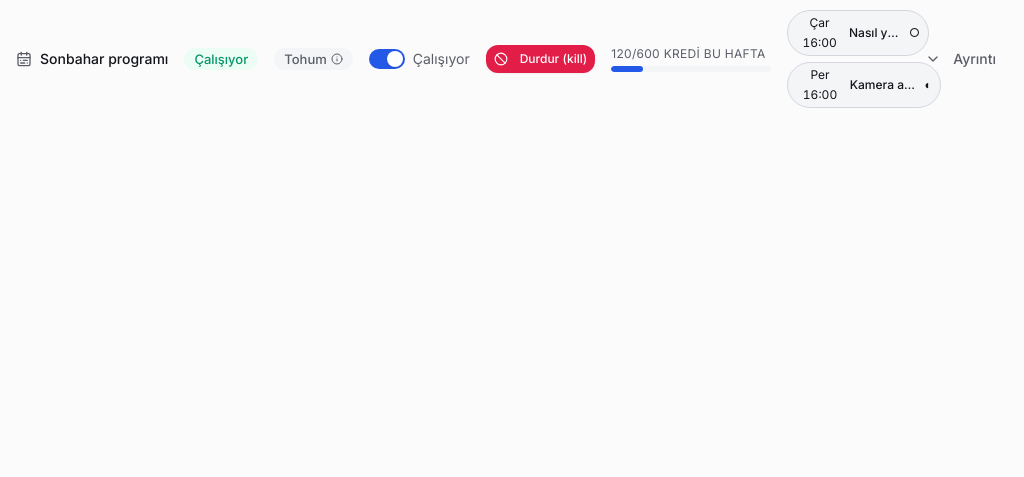
it: ProgrammePanel — detail › the Trendler and Günlük tabs render their rows
The width and height of the screenshot is (1024, 477).
Click the button "Ayrıntı" at (961, 59), box x1=913 y1=43 x2=1008 y2=75
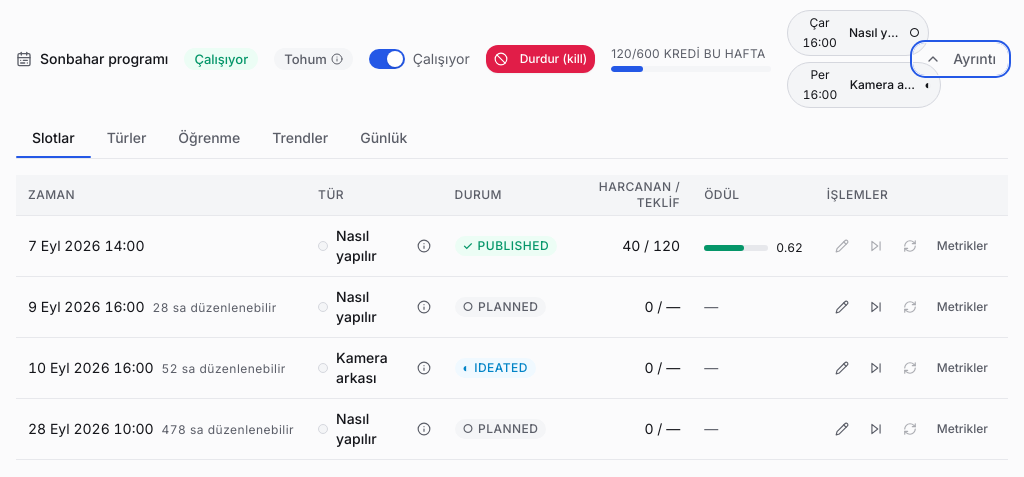
Click the tab "Trendler" at (300, 139), box x1=256 y1=120 x2=344 y2=158
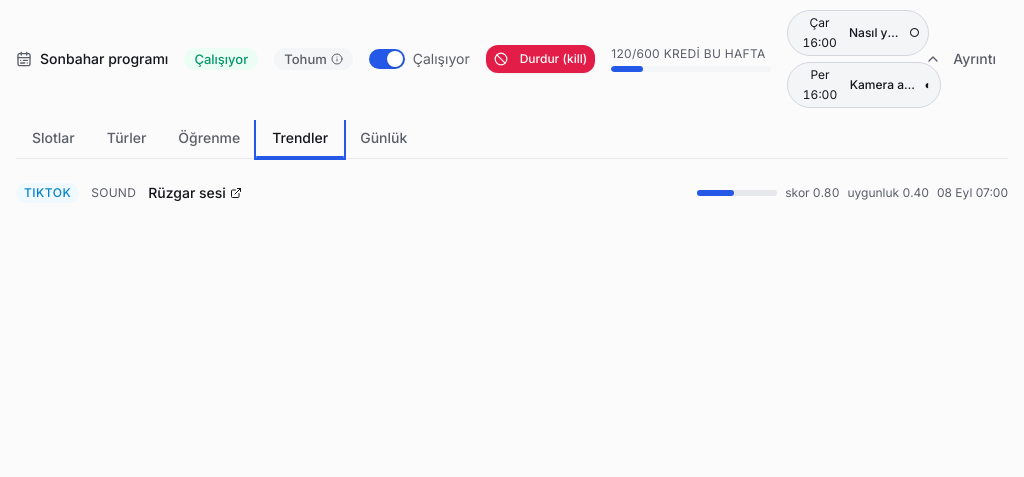
Result: the list item with test id "programme-trend-row" shows "TIKTOK" at x1=24 y1=185 x2=71 y2=200
Result: the list item with test id "programme-trend-row" shows "skor 0.80" at x1=16 y1=183 x2=1008 y2=203
Result: the list item with test id "programme-trend-row" shows "uygunluk 0.40" at x1=16 y1=183 x2=1008 y2=203
Click the tab "Günlük" at (384, 139), box x1=344 y1=120 x2=423 y2=158
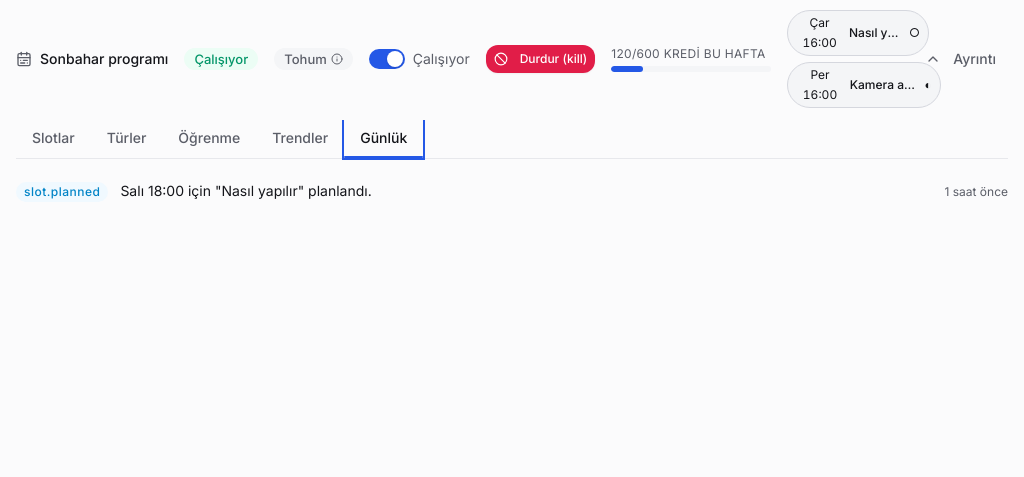
Result: the list item with test id "programme-event-row" shows "slot.planned" at x1=24 y1=184 x2=100 y2=199
Result: the list item with test id "programme-event-row" shows "Salı 18:00 için" at x1=120 y1=182 x2=372 y2=199
